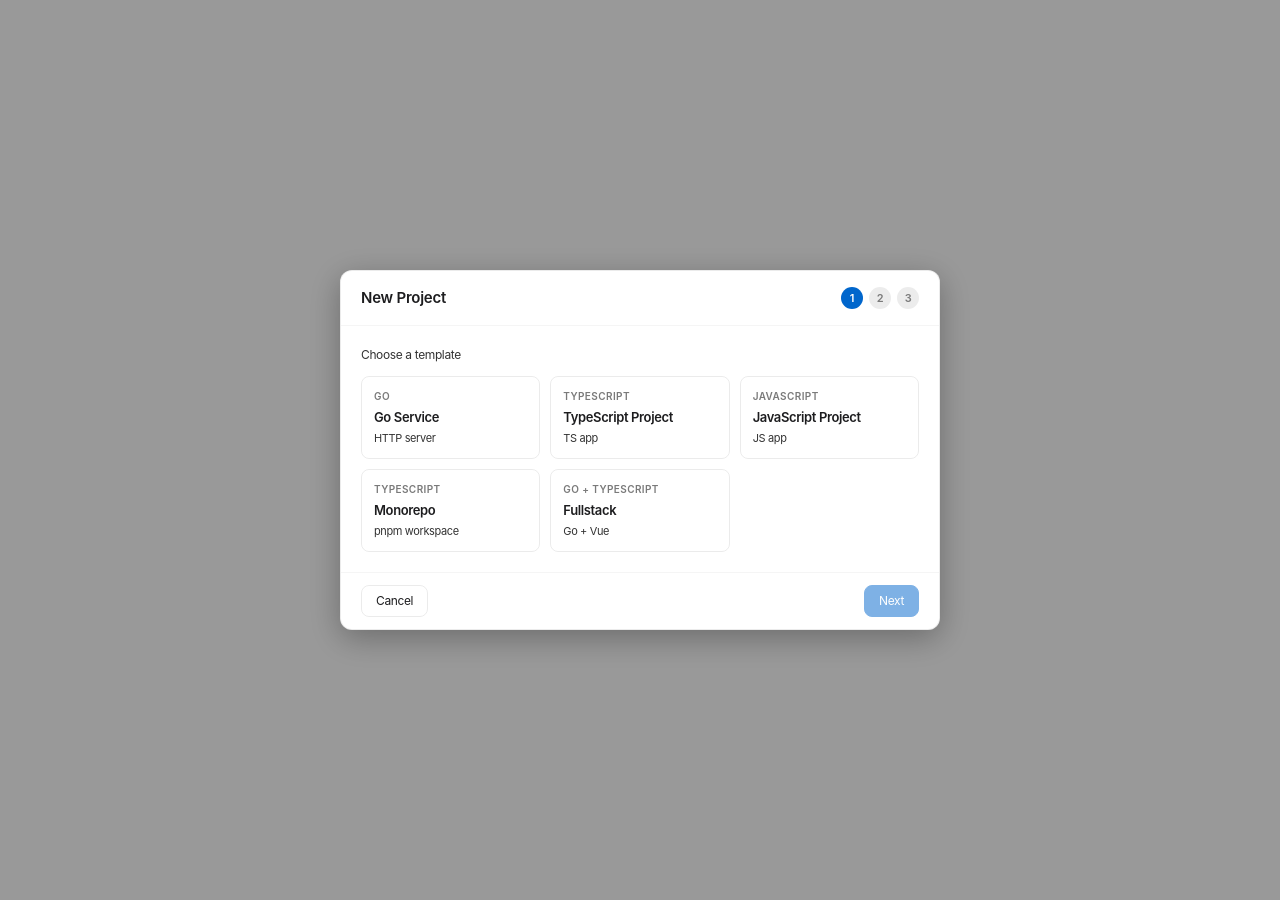
Test: NewProjectWizard (G-FEAT-01) › selecting a template enables Next and advances to step 2
Step 1. Click the button with class "npw__card" showing "Go Go Service HTTP server" → point(451, 417), box x1=361 y1=376 x2=540 y2=459
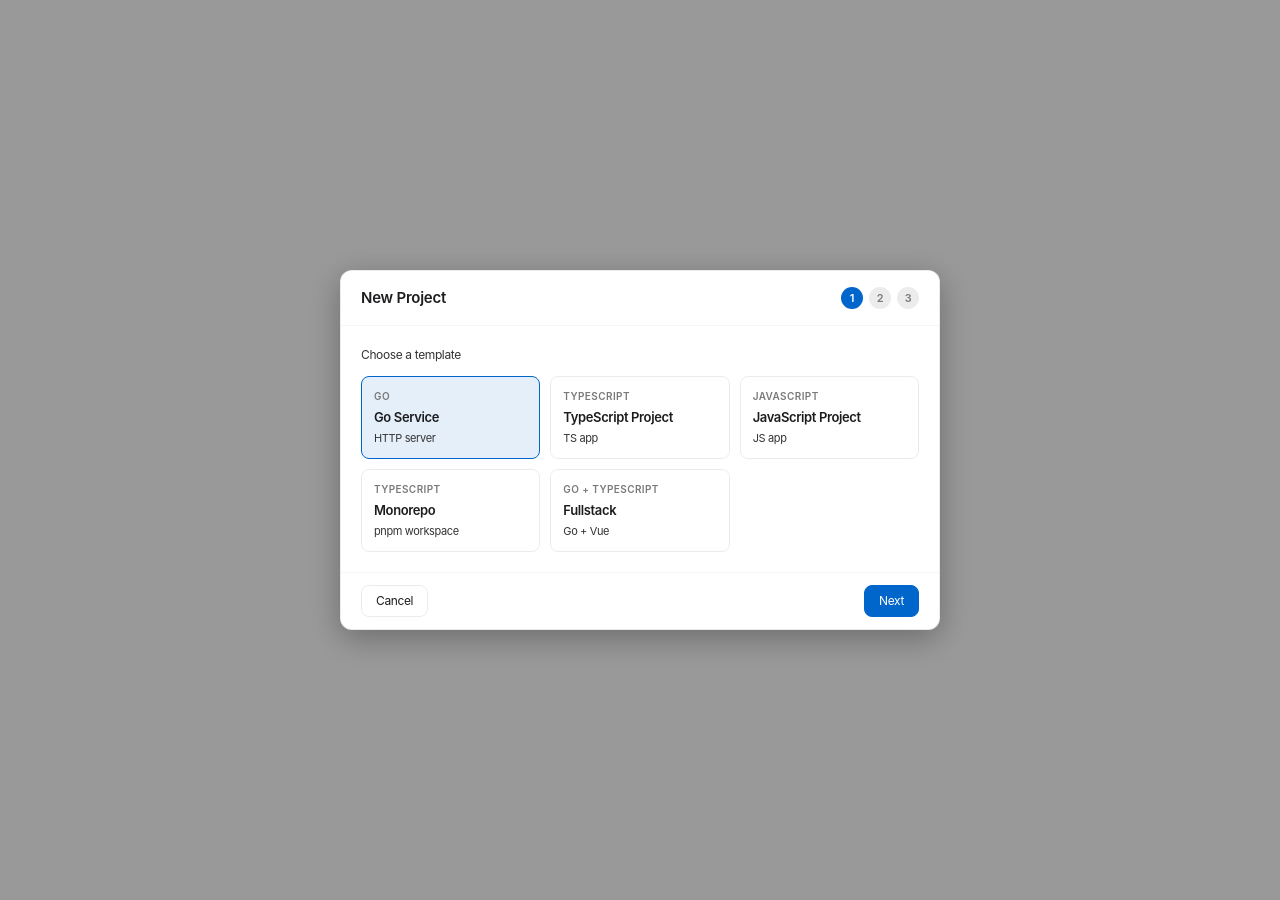
expect the button with class "npw__btn--primary" is enabled: met
Step 2. Click the button with class "npw__btn--primary" → point(892, 601), box x1=864 y1=585 x2=919 y2=617
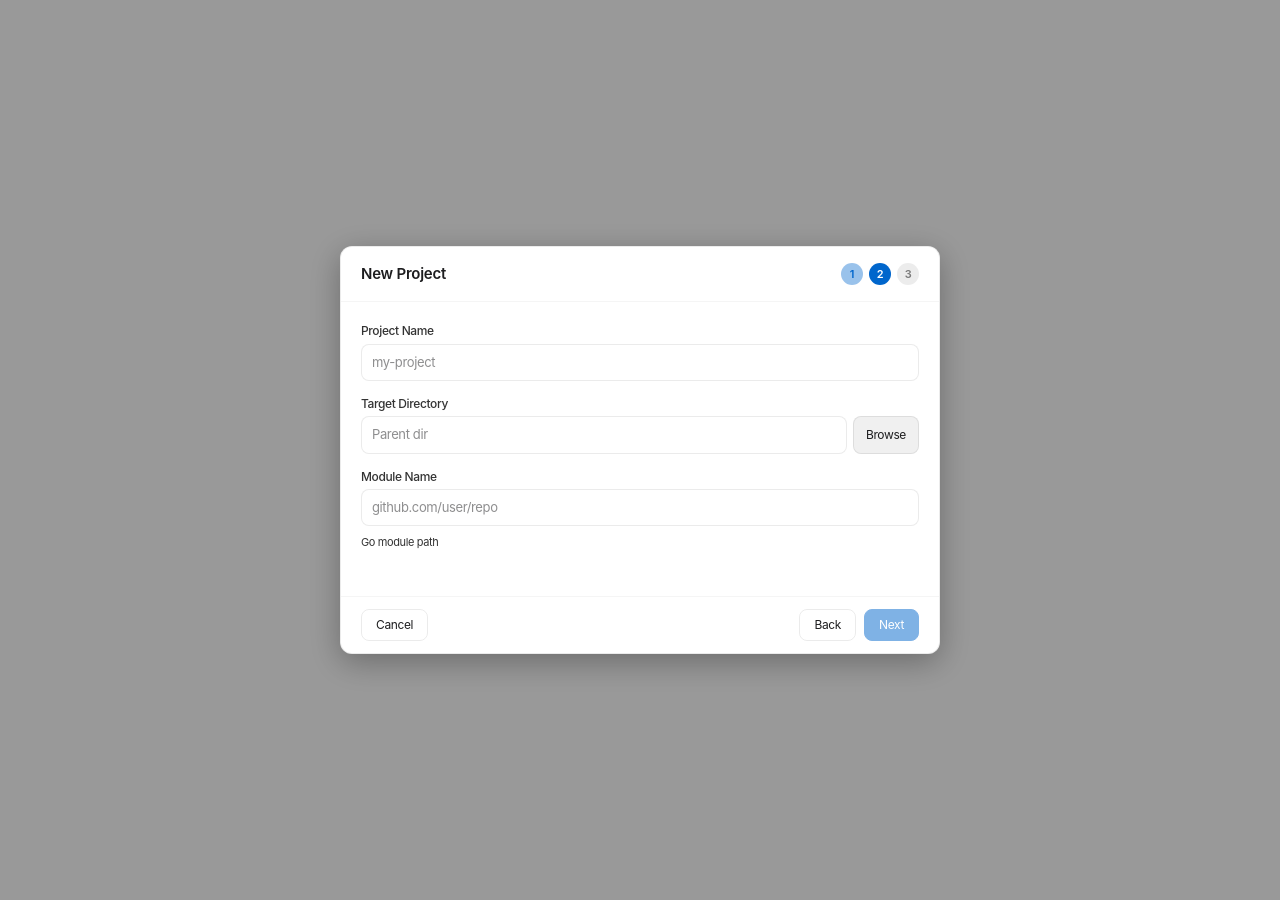
expect the field named "Project Name" is shown: met, box x1=361 y1=344 x2=919 y2=381
